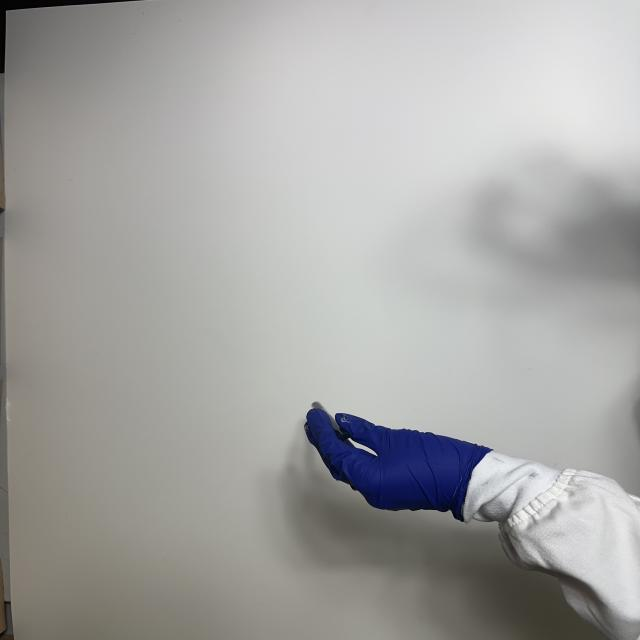gloves_contaminated: (305, 409, 491, 521)
